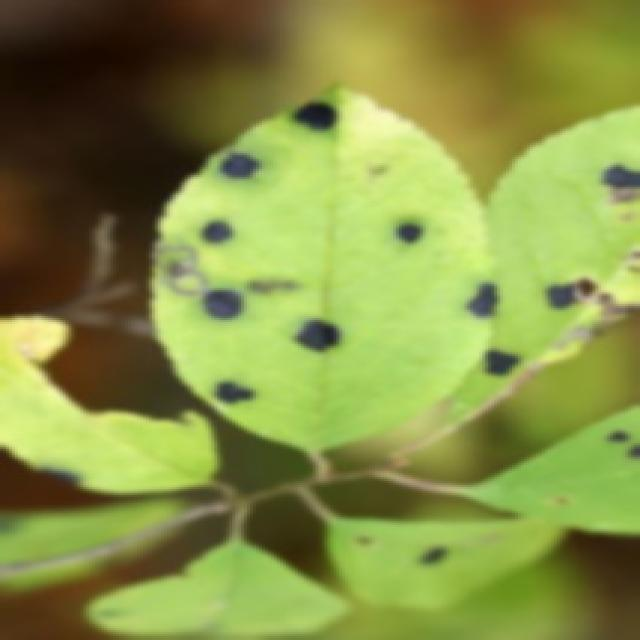Tar_Spot: (179, 74, 470, 428), (482, 95, 637, 378)
